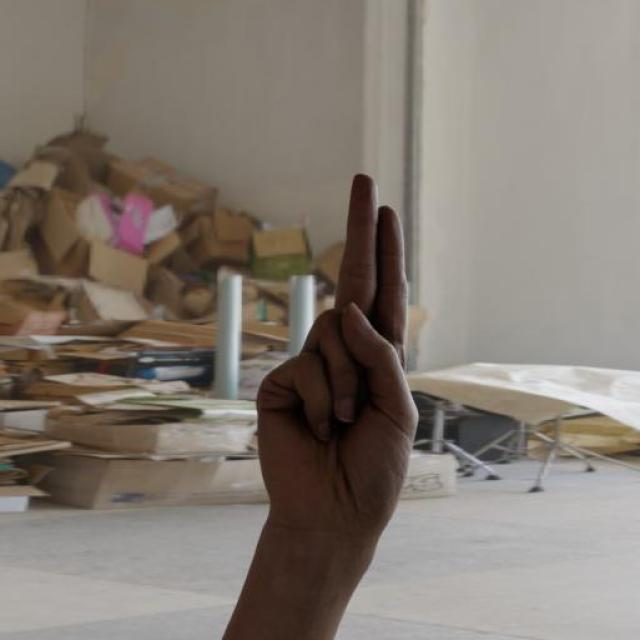U: (248, 163, 427, 577)
